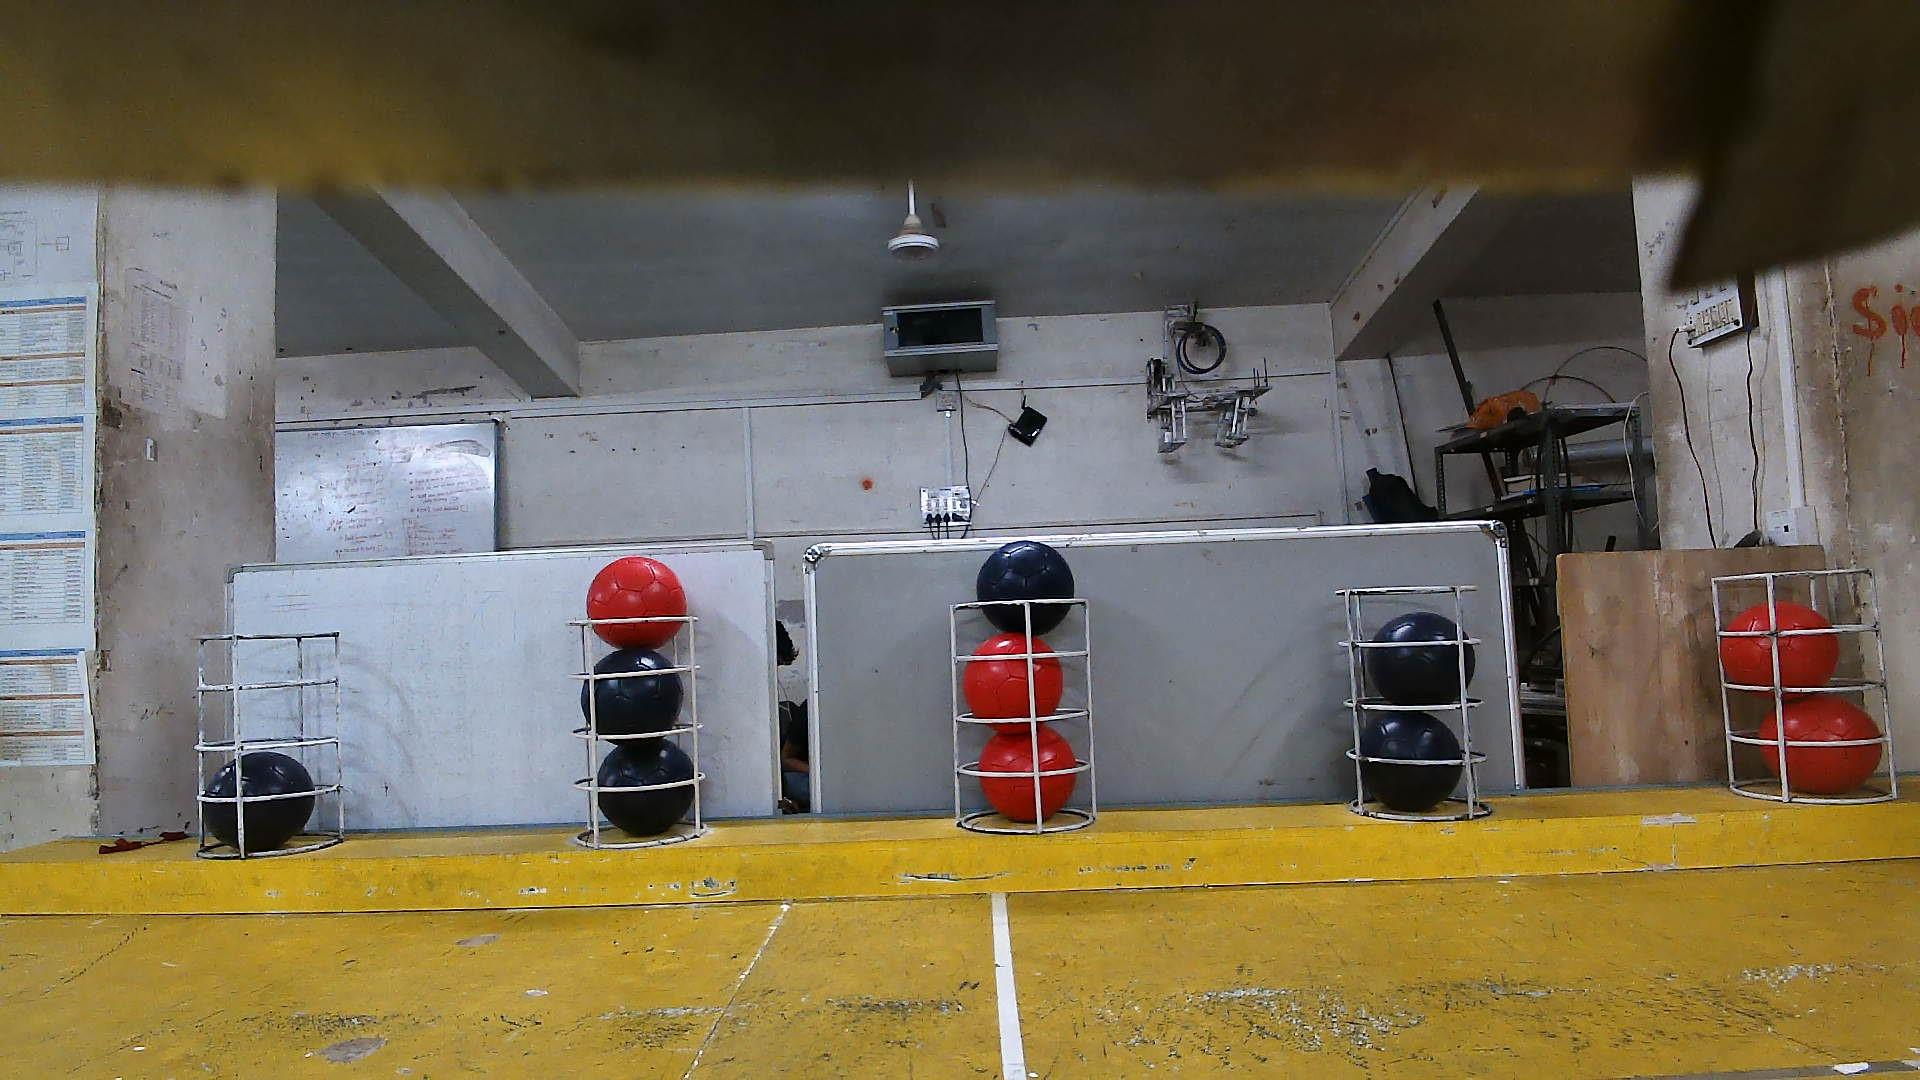dhoka: (203, 750, 315, 855), (1365, 612, 1477, 705), (1361, 712, 1462, 814), (596, 738, 694, 836), (978, 541, 1076, 637), (582, 645, 683, 735)
laale: (1759, 694, 1883, 795), (1721, 600, 1841, 688), (585, 555, 686, 649), (978, 728, 1076, 822), (964, 630, 1065, 720)
